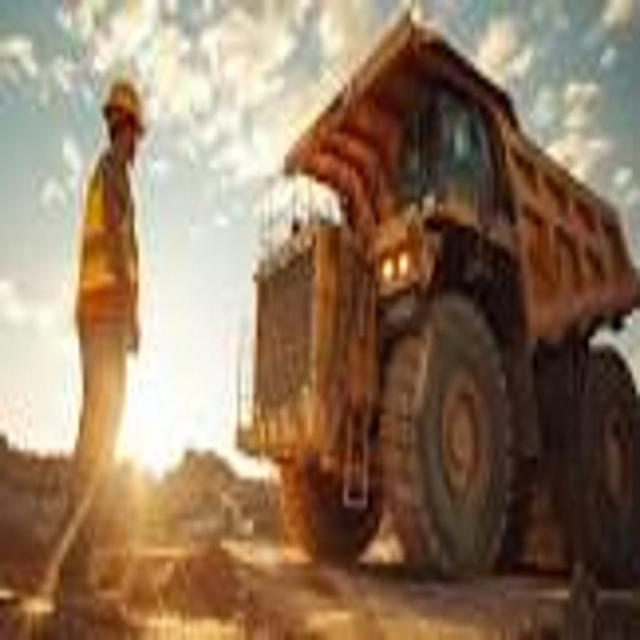dump_truck: (242, 6, 640, 604)
